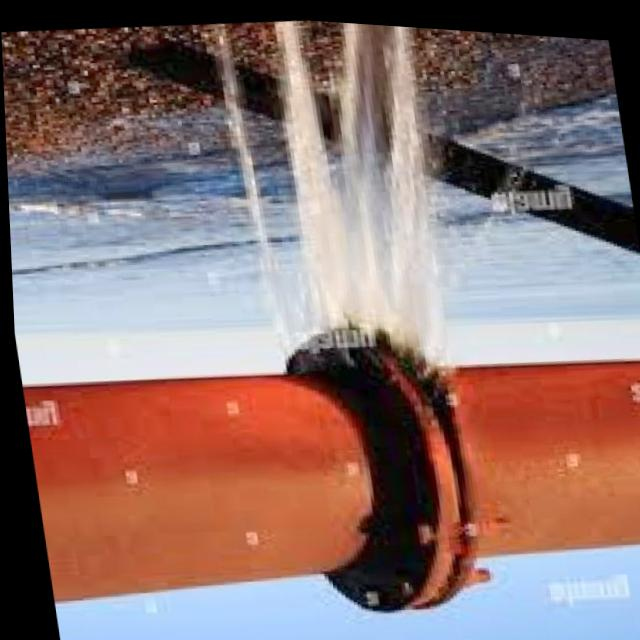leak: (196, 21, 554, 369)
